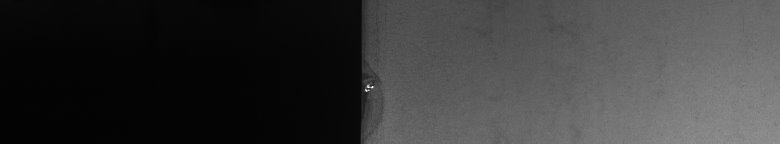hb: (372, 65, 388, 136)
